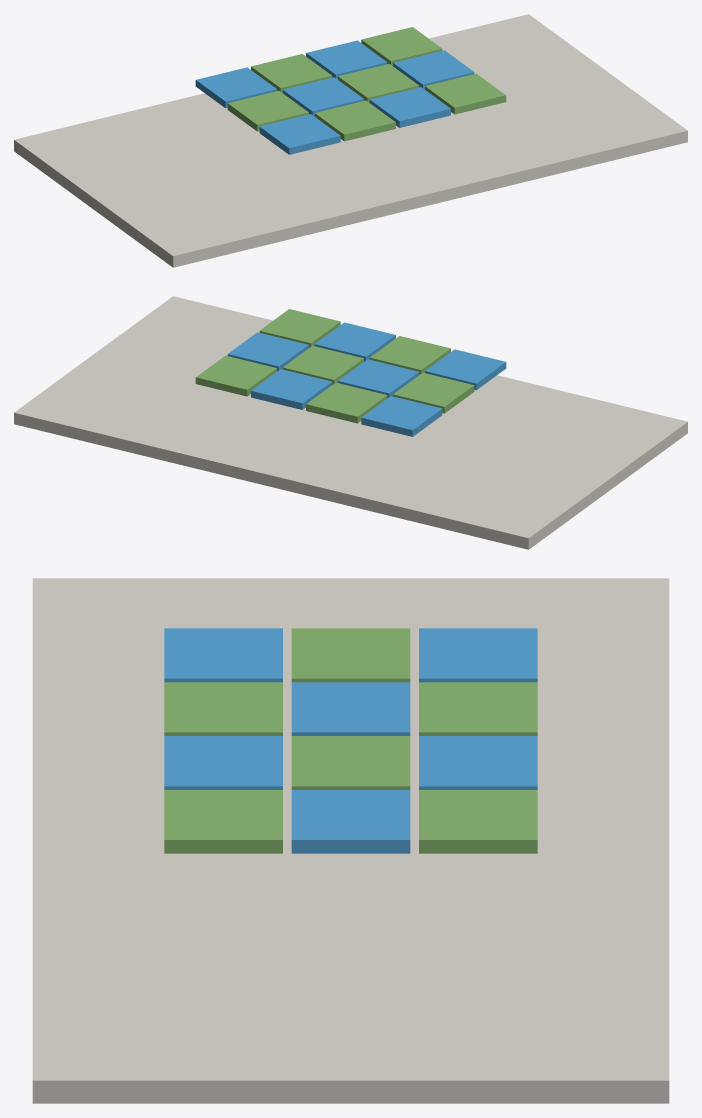
Rendered from math-geometry-area.glb.
3 views of the same model, one above another, from view 1: azimuth 30°, elevation 25°; view 2: azimuth 150°, elevation 25°; view 3: azimuth 270°, elevation 25° (orthographic). The views are drawn at different scales.
Parts seen in each view (by area): view 1: manipulative-base, unit-square-0-2, unit-square-3-2, unit-square-1-2, unit-square-2-2, unit-square-0-1, unit-square-0-0, unit-square-3-1, unit-square-2-0, unit-square-2-1, unit-square-3-0, unit-square-1-1 (+1 smaller); view 2: manipulative-base, unit-square-0-0, unit-square-3-0, unit-square-1-0, unit-square-2-0, unit-square-0-1, unit-square-0-2, unit-square-3-1, unit-square-2-1, unit-square-2-2, unit-square-3-2, unit-square-1-1 (+1 smaller); view 3: manipulative-base, unit-square-3-1, unit-square-3-0, unit-square-3-2, unit-square-0-1, unit-square-0-0, unit-square-0-2, unit-square-1-1, unit-square-2-1, unit-square-1-0, unit-square-1-2, unit-square-2-0 (+1 smaller).
Part boxes in pixels (bbox=[...]): manipulative-base: bbox=[14, 14, 687, 267]; unit-square-0-2: bbox=[259, 114, 340, 154]; unit-square-3-2: bbox=[425, 73, 506, 114]; unit-square-1-2: bbox=[314, 100, 395, 141]; unit-square-2-2: bbox=[369, 87, 450, 127]; unit-square-0-1: bbox=[227, 90, 308, 131]; unit-square-0-0: bbox=[195, 67, 276, 108]; unit-square-3-1: bbox=[393, 50, 474, 89]; unit-square-2-0: bbox=[306, 40, 387, 79]; unit-square-2-1: bbox=[338, 63, 419, 102]; unit-square-3-0: bbox=[361, 27, 442, 65]; unit-square-1-1: bbox=[282, 77, 363, 116]; manipulative-base: bbox=[14, 296, 687, 549]; unit-square-0-0: bbox=[361, 396, 442, 436]; unit-square-3-0: bbox=[195, 355, 276, 396]; unit-square-1-0: bbox=[306, 382, 387, 423]; unit-square-2-0: bbox=[251, 369, 332, 409]; unit-square-0-1: bbox=[393, 372, 474, 413]; unit-square-0-2: bbox=[425, 349, 506, 390]; unit-square-3-1: bbox=[227, 332, 308, 371]; unit-square-2-1: bbox=[282, 345, 363, 384]; unit-square-2-2: bbox=[314, 322, 395, 361]; unit-square-3-2: bbox=[259, 309, 340, 347]; unit-square-1-1: bbox=[338, 359, 419, 398]; manipulative-base: bbox=[32, 578, 669, 1103]; unit-square-3-1: bbox=[291, 790, 410, 853]; unit-square-3-0: bbox=[419, 790, 537, 853]; unit-square-3-2: bbox=[164, 790, 282, 853]; unit-square-0-1: bbox=[291, 628, 410, 682]; unit-square-0-0: bbox=[419, 628, 537, 682]; unit-square-0-2: bbox=[164, 628, 282, 682]; unit-square-1-1: bbox=[291, 682, 410, 735]; unit-square-2-1: bbox=[291, 736, 410, 789]; unit-square-1-0: bbox=[419, 682, 537, 735]; unit-square-1-2: bbox=[164, 682, 282, 735]; unit-square-2-0: bbox=[419, 736, 537, 789].
Size of what is drawn, in the model's own units: 2.8 by 0.3075 by 1.5.
